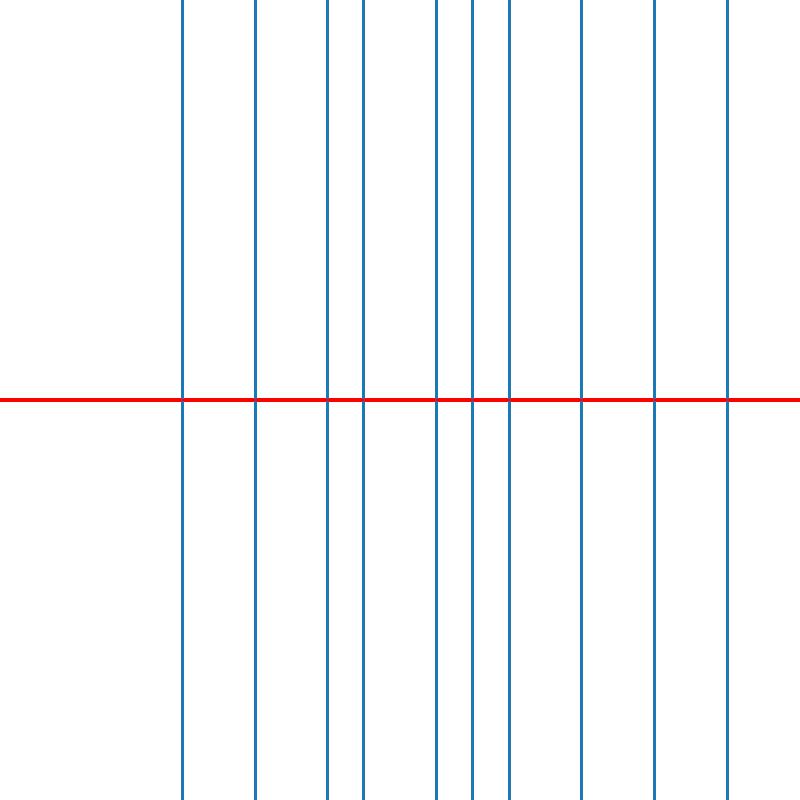root: (250, 396, 258, 404), (650, 396, 658, 404), (432, 396, 440, 404), (723, 396, 730, 404), (469, 396, 476, 404), (505, 396, 512, 404), (323, 396, 330, 404), (360, 396, 367, 404), (178, 396, 185, 404), (578, 396, 585, 404)
